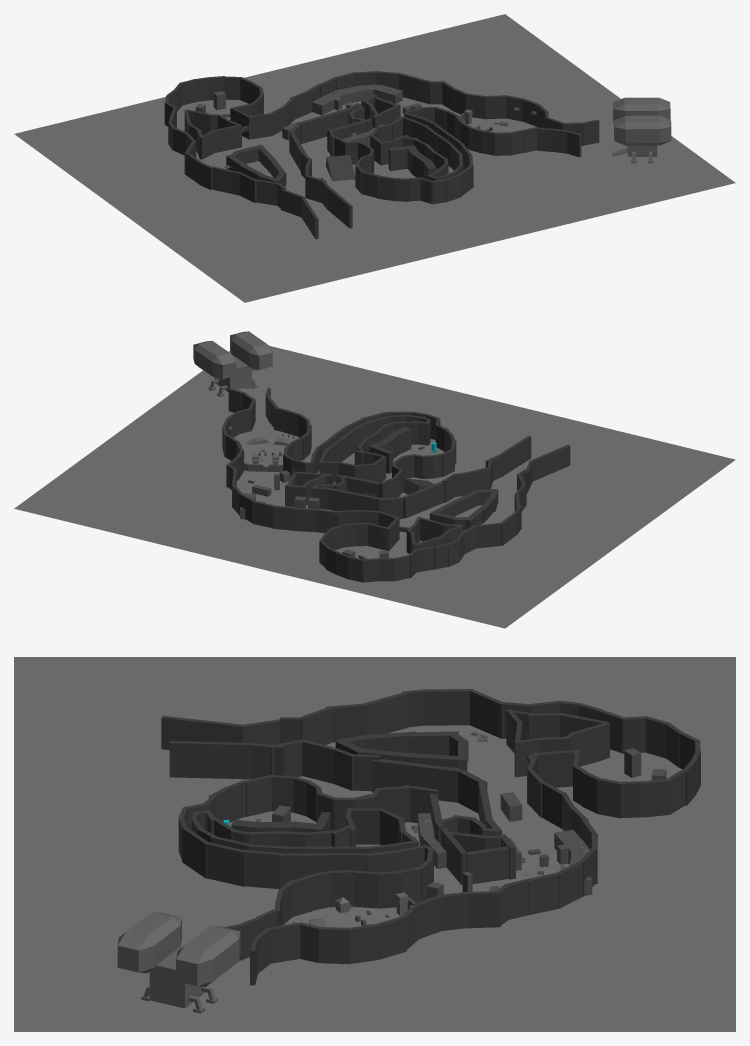
Rendered from Blockout Blender.fbx.
3 renders of one model, top to bottom at view 1: azimuth 30°, elevation 25°; view 2: azimuth 150°, elevation 25°; view 3: azimuth 270°, elevation 25°, orthographic. The views are drawn at different scales.
Parts seen in each view (by area): view 1: Plane, Spaceship, Cube.139, Cube, Cube.092, Cube.087, Cube.201, Cube.070, Cube.094, Cube.055, Cube.096, Cube.115; view 2: Plane, Spaceship, Cube.139, Cube.141, Cube.097, Cube, Cube.089, Cube.066, Cube.140, Cube.003, Cube.065, Cube.064; view 3: Plane, Spaceship, Cube, Cube.141, Cube.097, Cube.090, Cube.092, Cube.189, Cube.147, Cube.191, Cube.061, Cube.058 (+52 smaller).
Boxes of the visible parts, x1,y1,x2,y2 form: Plane: (14, 14, 735, 302); Spaceship: (612, 97, 671, 163); Cube.139: (300, 108, 349, 143); Cube: (326, 186, 352, 228); Cube.092: (210, 166, 240, 195); Cube.087: (213, 124, 241, 152); Cube.201: (326, 155, 355, 181); Cube.070: (248, 113, 272, 139); Cube.094: (255, 179, 278, 205); Cube.055: (486, 95, 506, 119); Cube.096: (280, 189, 304, 217); Cube.115: (388, 145, 413, 170); Plane: (14, 346, 735, 628); Spaceship: (193, 331, 272, 397); Cube.139: (327, 487, 381, 510); Cube.141: (403, 481, 444, 518); Cube.097: (531, 444, 570, 481); Cube: (500, 435, 531, 476); Cube.089: (473, 522, 503, 548); Cube.066: (293, 508, 316, 531); Cube.140: (342, 475, 384, 497); Cube.003: (466, 467, 490, 493); Cube.065: (273, 505, 296, 530); Cube.064: (252, 501, 274, 528); Plane: (14, 657, 735, 1031); Spaceship: (117, 912, 240, 1013); Cube: (169, 741, 251, 779); Cube.141: (372, 759, 461, 802); Cube.097: (161, 715, 243, 749); Cube.090: (424, 689, 473, 725); Cube.092: (361, 692, 408, 735); Cube.189: (205, 842, 245, 886); Cube.147: (466, 846, 508, 883); Cube.191: (240, 849, 284, 889); Cube.061: (526, 872, 561, 915); Cube.058: (467, 891, 500, 928).
Size of the model in its own units: 673 by 92.85 by 548.
